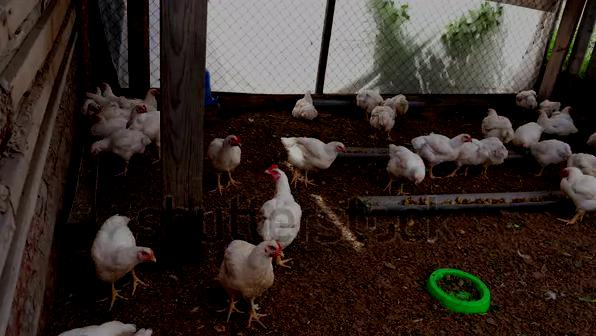Pollos: (92, 214, 157, 281), (219, 236, 281, 302), (259, 165, 301, 245), (87, 130, 146, 164), (288, 137, 345, 172), (560, 167, 596, 214), (386, 143, 425, 185), (208, 132, 242, 178), (419, 131, 473, 158), (529, 137, 572, 169), (124, 101, 161, 135), (536, 109, 580, 135), (481, 109, 511, 142), (87, 103, 124, 129), (371, 105, 402, 135), (294, 90, 317, 119), (517, 91, 538, 113)
